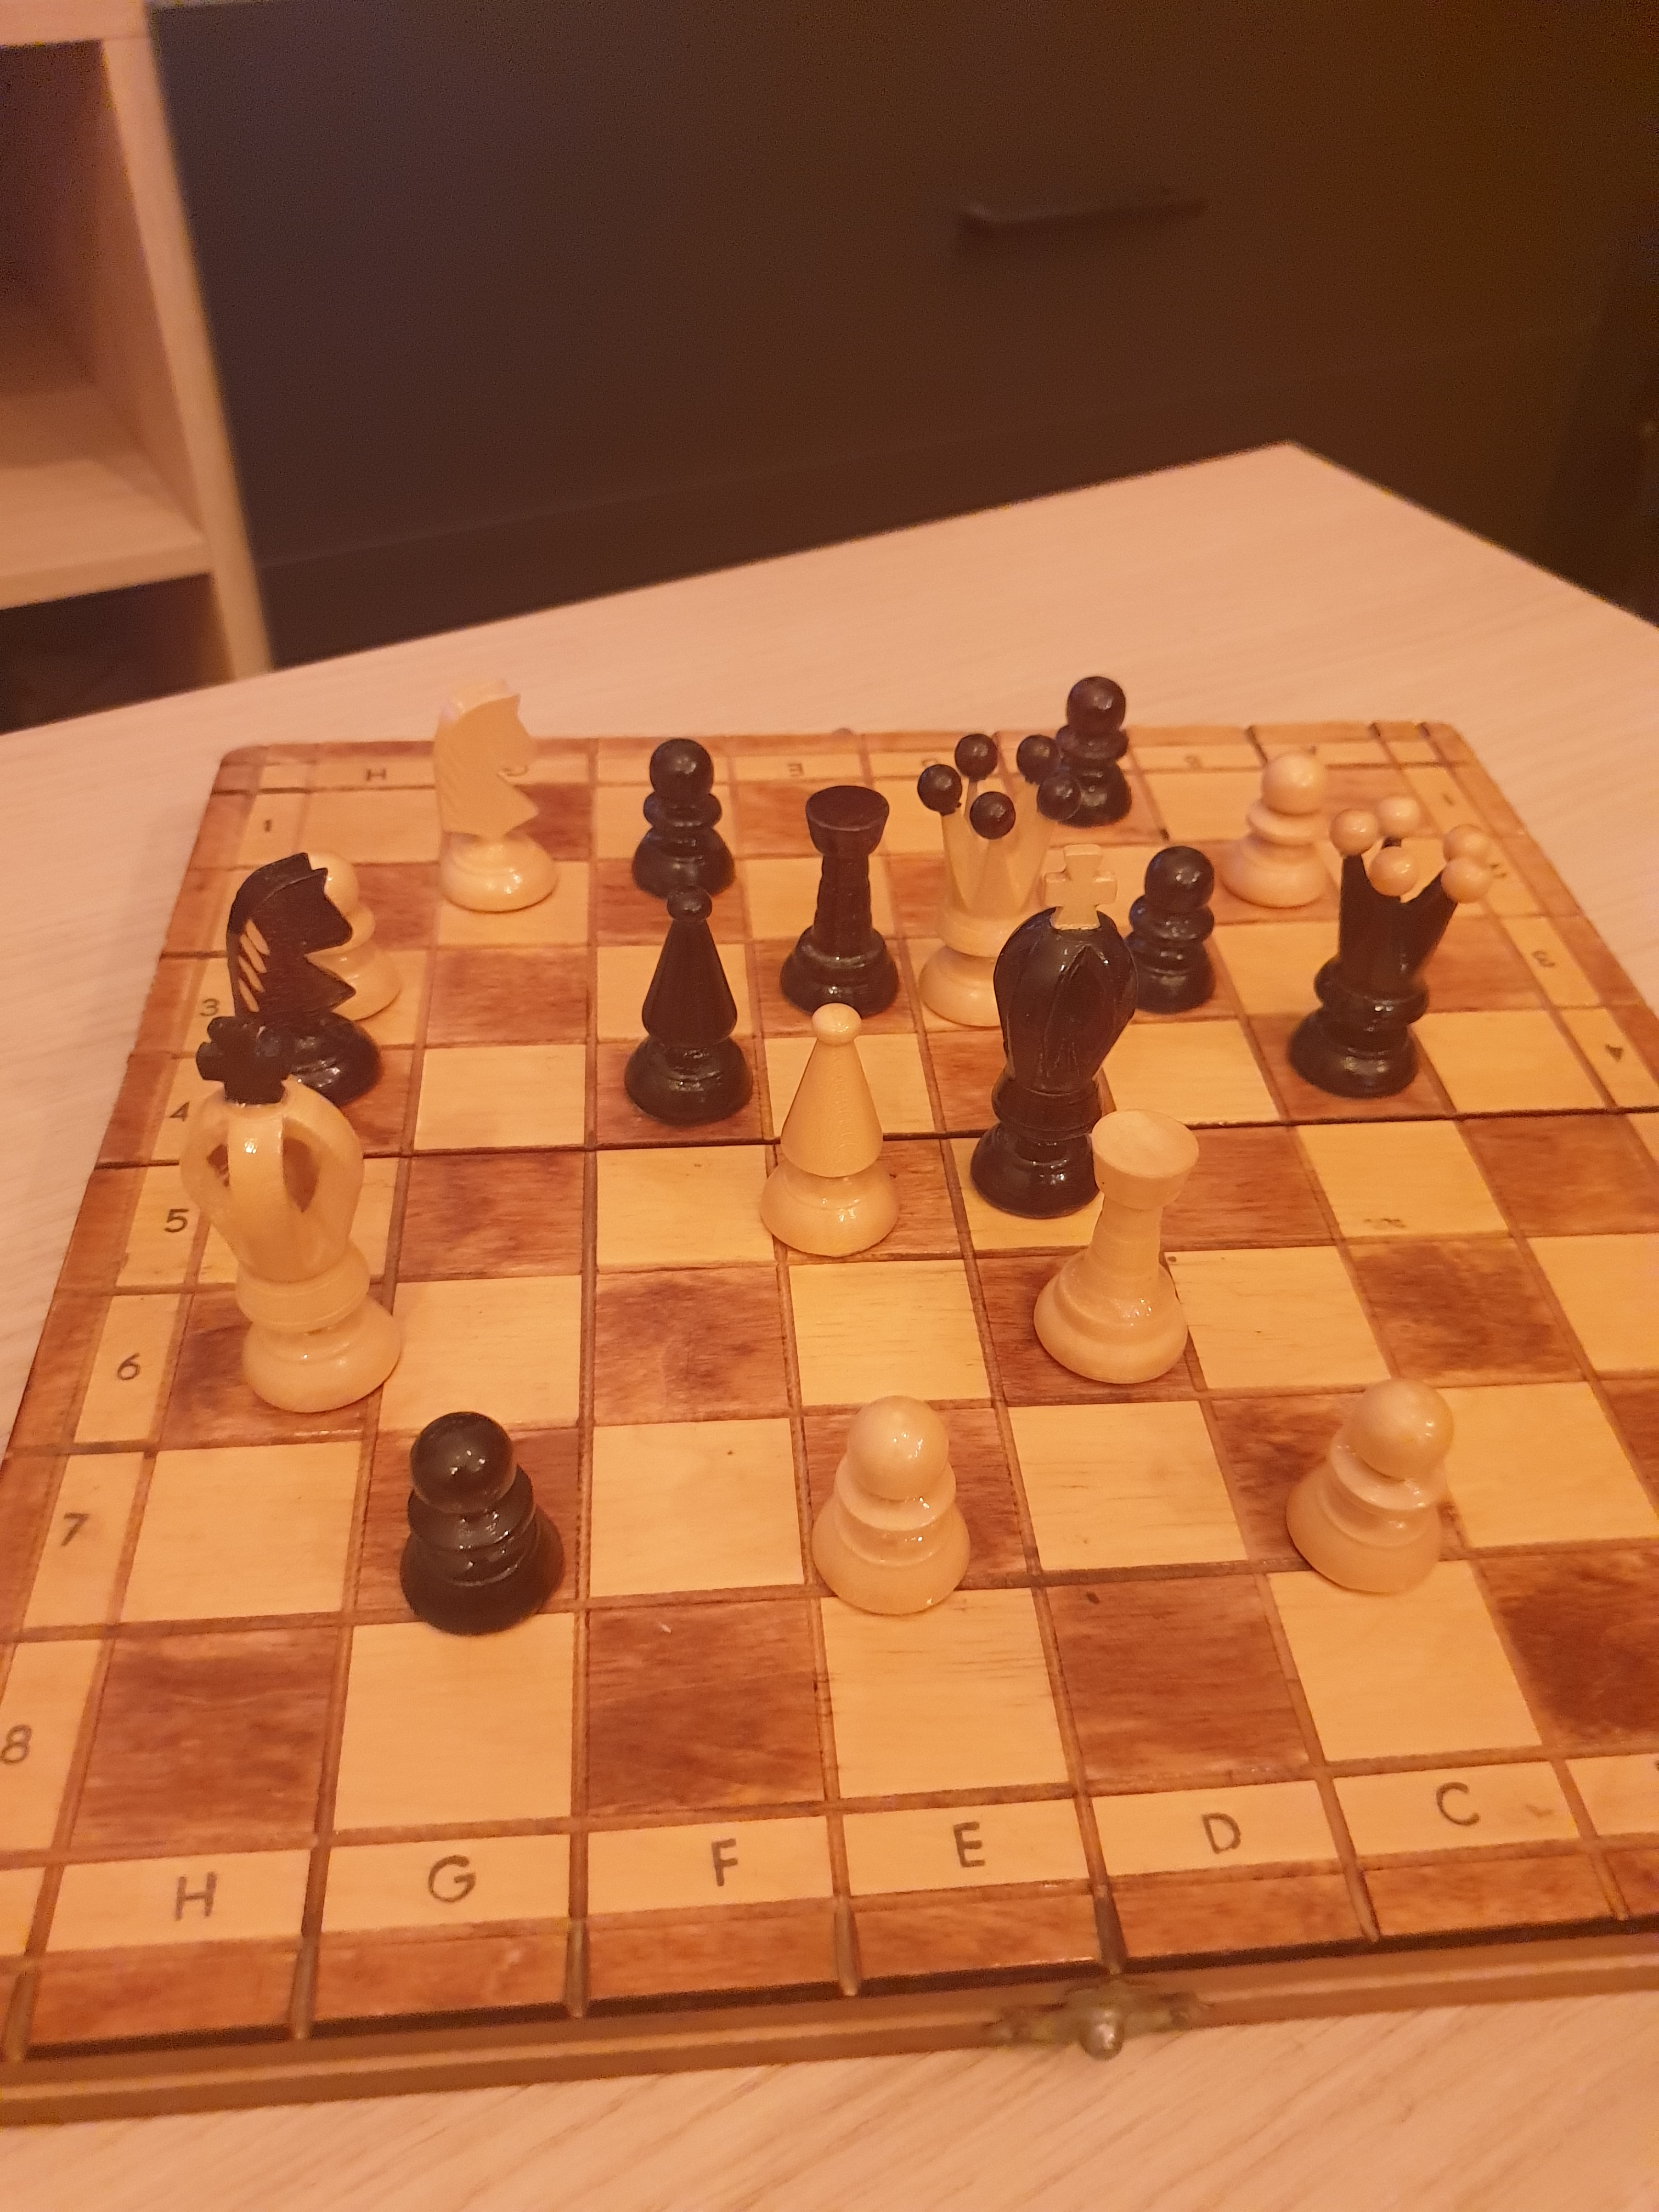bbishop: (615, 871, 770, 1137)
bking: (964, 833, 1147, 1228)
bknight: (220, 848, 390, 1122)
bpawn: (387, 1400, 577, 1658), (622, 721, 751, 921), (1103, 834, 1237, 1021), (1028, 662, 1150, 846)
bqueen: (1276, 791, 1523, 1125)
brook: (767, 775, 910, 1038)
wbishop: (755, 984, 917, 1275)
wking: (143, 988, 427, 1425)
wknight: (427, 667, 573, 921)
wpawn: (1276, 1359, 1474, 1623), (796, 1383, 992, 1641), (253, 833, 411, 1036), (1222, 740, 1351, 932)
wqueen: (897, 719, 1084, 1043)
wrook: (1021, 1101, 1206, 1399)
